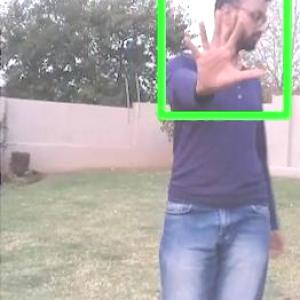follow_hand: (177, 0, 272, 96)
